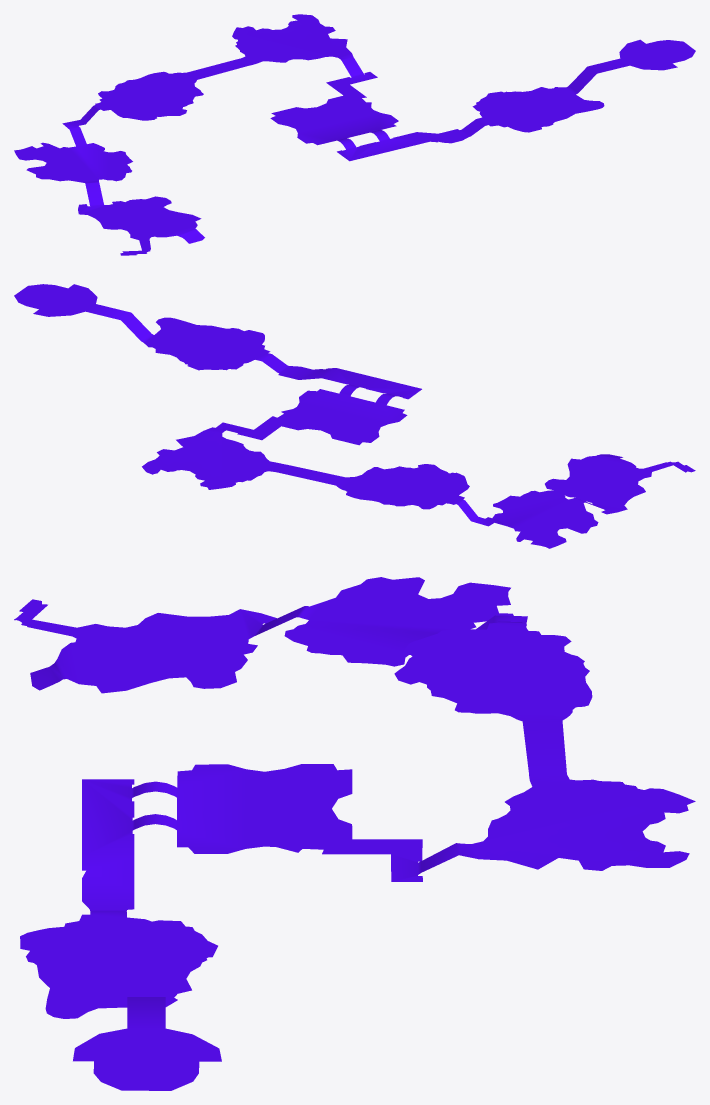
The model's file is Mld_navigation_00.FBX.
3 views of the same model, one above another, from view 1: azimuth 30°, elevation 25°; view 2: azimuth 150°, elevation 25°; view 3: azimuth 270°, elevation 25° (orthographic). The views are drawn at different scales.
Parts seen in each view (by area): view 1: Mld_navigation_00; view 2: Mld_navigation_00; view 3: Mld_navigation_00.
Boxes of the visible parts, bbox=[...] form: Mld_navigation_00: bbox=[14, 14, 695, 255]; Mld_navigation_00: bbox=[14, 284, 695, 548]; Mld_navigation_00: bbox=[14, 577, 695, 1090].
Bounding box in the file's own units: 10334 × 774 × 5176.
